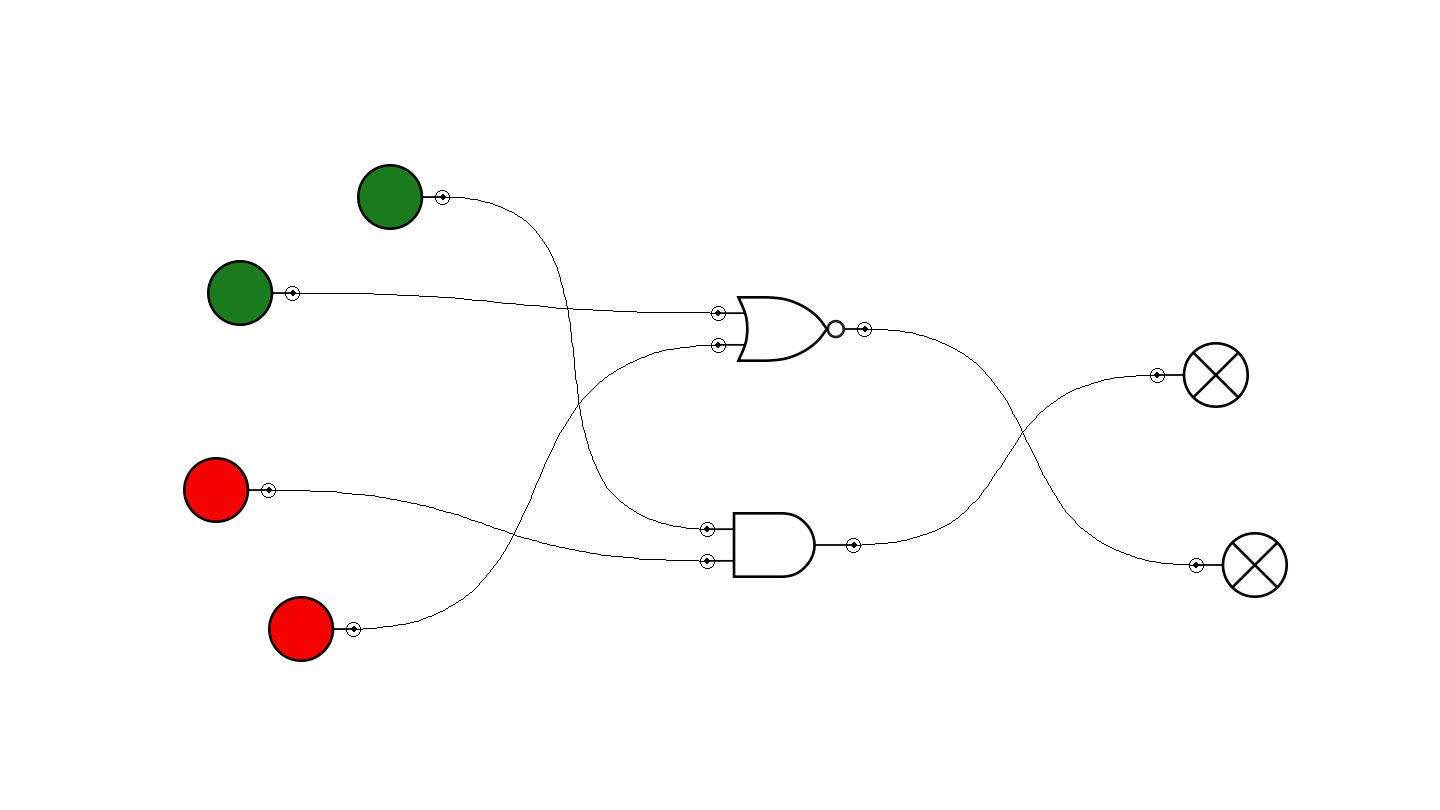and: (700, 512, 861, 578)
bulb: (1150, 342, 1249, 408), (1189, 532, 1288, 598)
nor: (711, 296, 872, 362)
switch_False: (183, 457, 276, 523), (268, 596, 361, 662)
switch_True: (357, 164, 450, 230), (207, 260, 300, 326)
